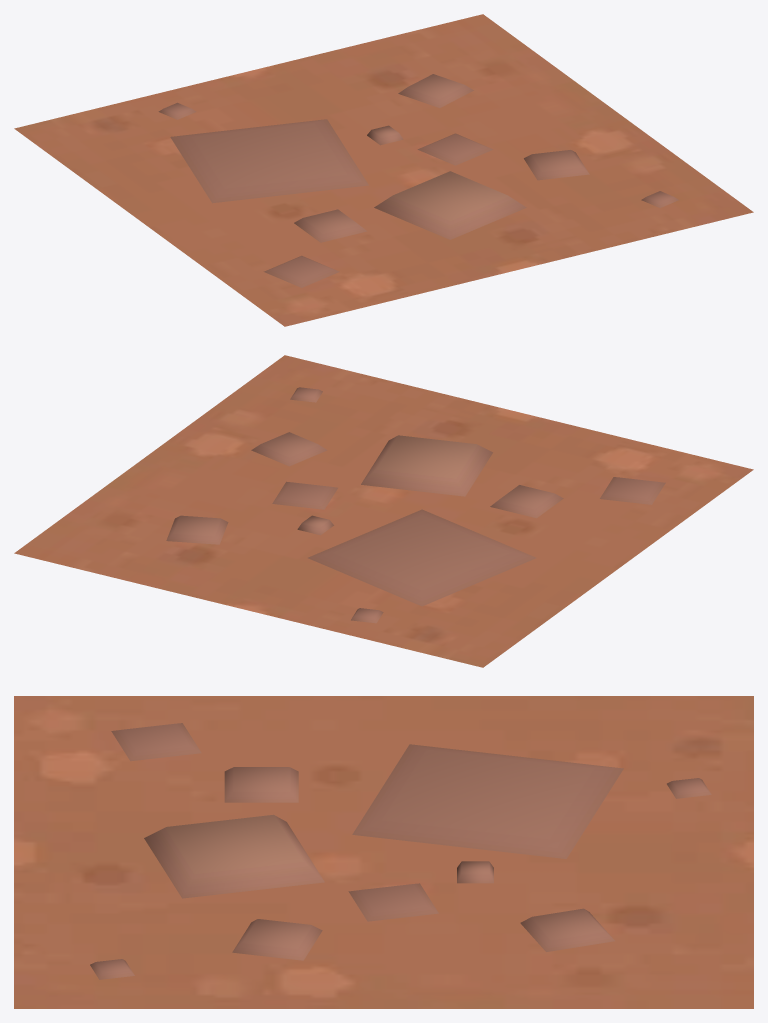
Rendered from template-floor-detail-a.glb.
3 views of the same model, one above another, from view 1: azimuth 30°, elevation 25°; view 2: azimuth 150°, elevation 25°; view 3: azimuth 270°, elevation 25° (orthographic). The views are drawn at different scales.
Visible parts, largest first — view 1: template-floor-detail-a; view 2: template-floor-detail-a; view 3: template-floor-detail-a.
Boxes of the visible parts, x1,y1,x2,y2 form: template-floor-detail-a: [14, 14, 753, 326]; template-floor-detail-a: [14, 355, 753, 667]; template-floor-detail-a: [14, 696, 753, 1008].
Size of the model in its own units: 4 by 0.1001 by 4.
Materials: 1 (1 with a texture image).
